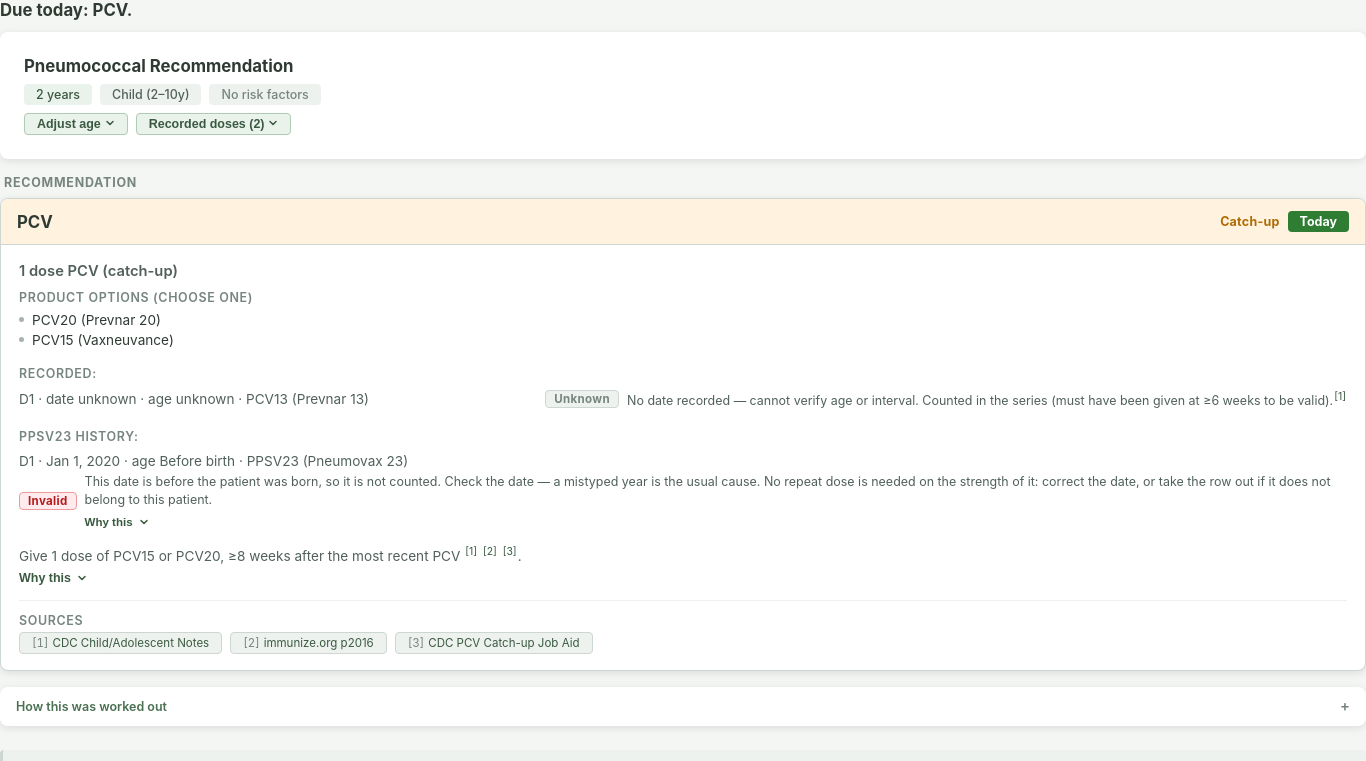
S9 — the dose editor has one home › both surfaces render the same fields in the same order › results shows the PPSV23 product as fixed, not a dropdown
The width and height of the screenshot is (1366, 761).
Click the button "Recorded doses (2)". click: (214, 124)
box: [136,113,292,135]
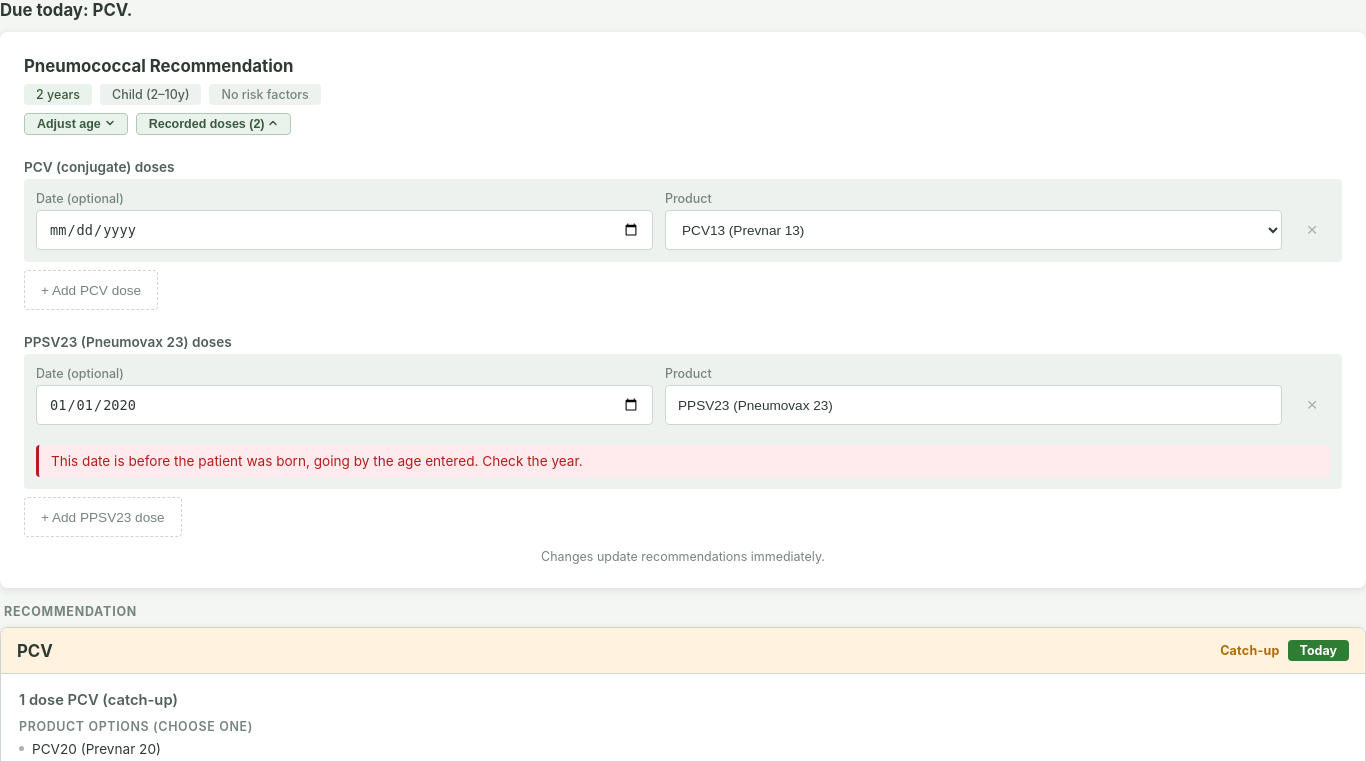
Now the dropdown labelled "Product" is shown, box [665,210,1282,250]
Now the field labelled "Product" is disabled, box [665,385,1282,425]
Now the field labelled "Product" holds "PPSV23 (Pneumovax 23)", box [665,385,1282,425]
